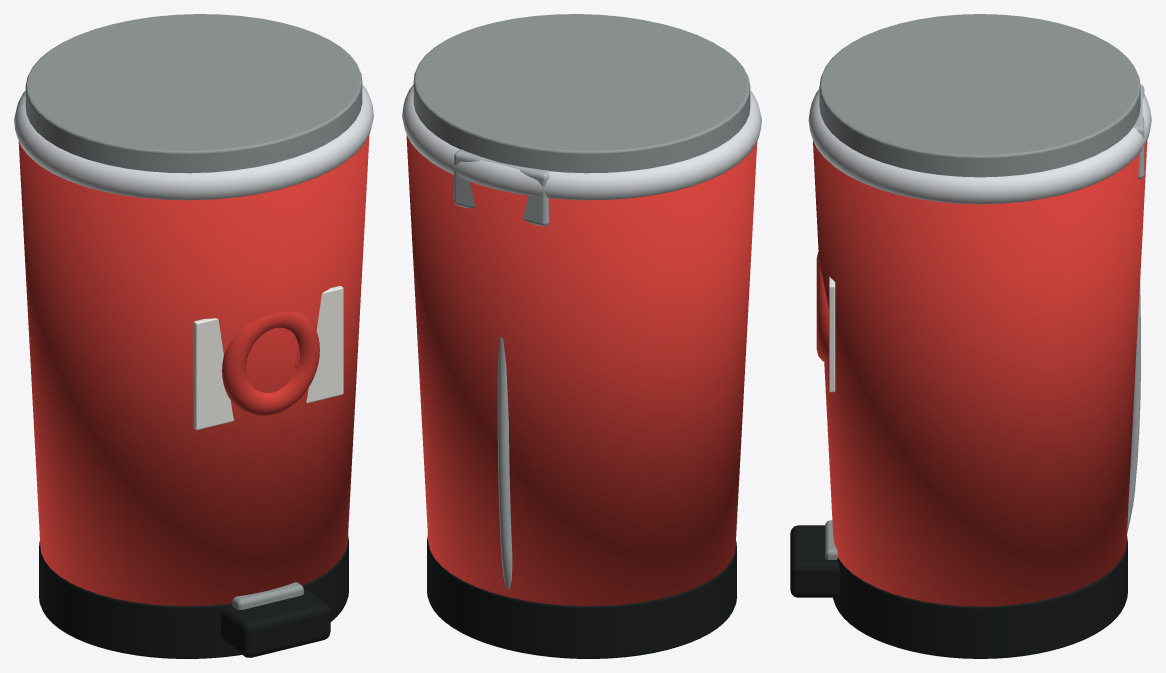
File: biological-waste-bin.glb
3 views of the same model, side by side, from view 1: azimuth 30°, elevation 25°; view 2: azimuth 150°, elevation 25°; view 3: azimuth 270°, elevation 25° (orthographic).
Parts seen in each view (by area): view 1: Runtime batch - Biological waste safety red, Runtime batch - Powder coat service gray, Runtime batch - Black leveling-foot rubber, Runtime batch - Satin anodized aluminum, Runtime batch - Matte equipment label; view 2: Runtime batch - Biological waste safety red, Runtime batch - Powder coat service gray, Runtime batch - Black leveling-foot rubber, Runtime batch - Satin anodized aluminum, Runtime batch - Zinc plated hardware; view 3: Runtime batch - Biological waste safety red, Runtime batch - Powder coat service gray, Runtime batch - Black leveling-foot rubber, Runtime batch - Satin anodized aluminum, Runtime batch - Zinc plated hardware, Runtime batch - Matte equipment label.
Boxes of the visible parts, x1,y1,x2,y2 form: Runtime batch - Biological waste safety red: [18, 135, 369, 606]; Runtime batch - Powder coat service gray: [25, 14, 362, 609]; Runtime batch - Black leveling-foot rubber: [39, 535, 348, 658]; Runtime batch - Satin anodized aluminum: [14, 84, 373, 200]; Runtime batch - Matte equipment label: [193, 286, 343, 430]; Runtime batch - Biological waste safety red: [406, 135, 757, 606]; Runtime batch - Powder coat service gray: [413, 14, 750, 173]; Runtime batch - Black leveling-foot rubber: [427, 535, 736, 658]; Runtime batch - Satin anodized aluminum: [402, 84, 761, 200]; Runtime batch - Zinc plated hardware: [454, 149, 549, 589]; Runtime batch - Biological waste safety red: [813, 140, 1147, 606]; Runtime batch - Powder coat service gray: [819, 14, 1140, 559]; Runtime batch - Black leveling-foot rubber: [790, 525, 1127, 658]; Runtime batch - Satin anodized aluminum: [808, 89, 1151, 204]; Runtime batch - Zinc plated hardware: [1127, 84, 1144, 533]; Runtime batch - Matte equipment label: [829, 276, 835, 392].
Size of the model in its own units: 0.45 by 0.7 by 0.45.
